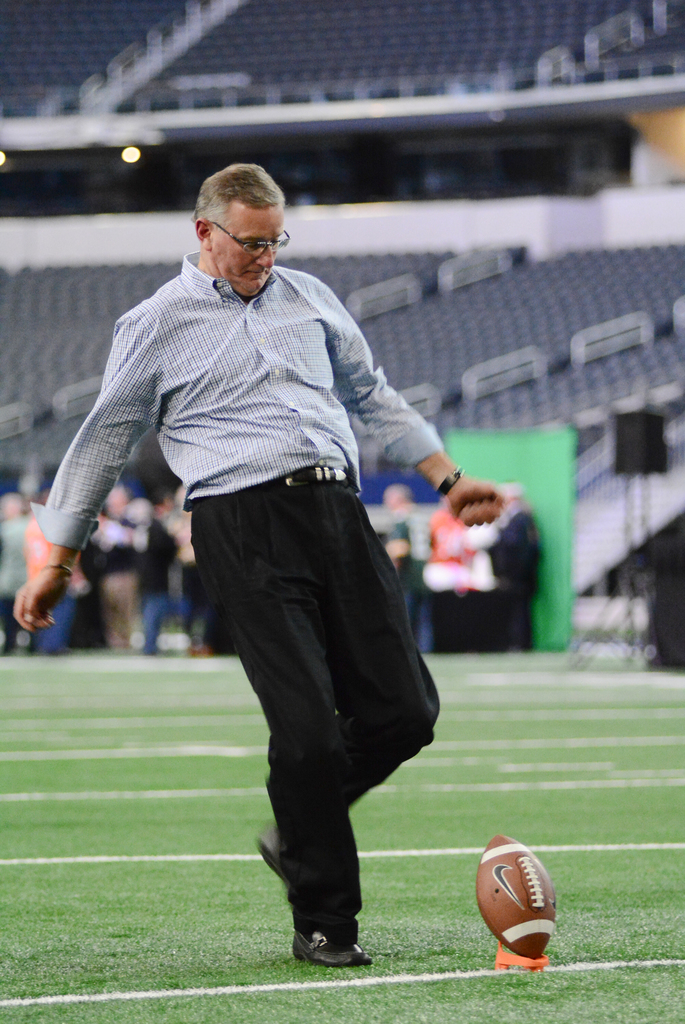Ball: (472, 834, 559, 963)
